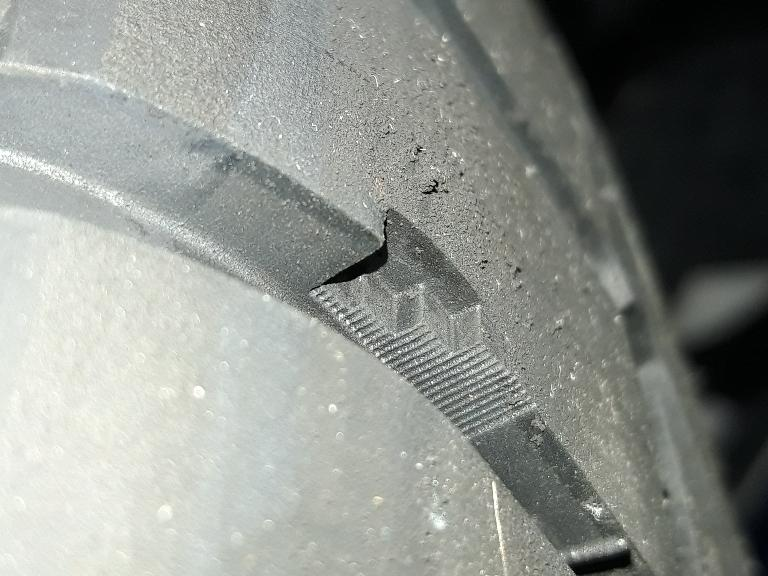temoin:75: (301, 199, 518, 422)
